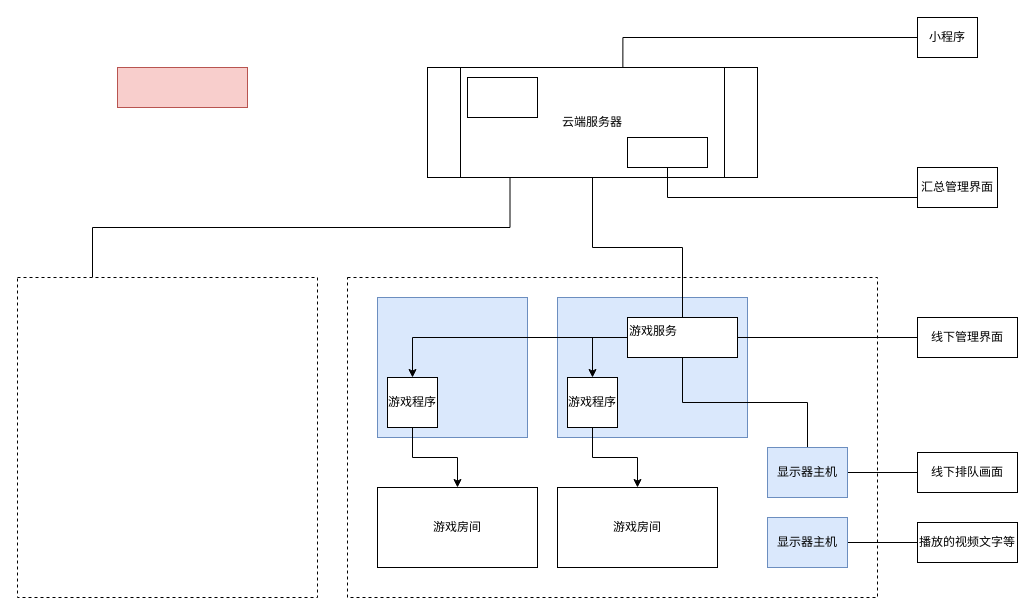
This 1035x615 diagram has some shape labels left out. The box of each missing label's shape, as (x1, y1, x2, y2) in pixels:
云端WEB服务: (626, 136, 708, 168)
升级: (116, 66, 248, 108)
数据库: (466, 76, 538, 118)
游戏主机1: (556, 296, 748, 438)
游戏主机2: (376, 296, 528, 438)
门店2: (16, 276, 318, 598)
